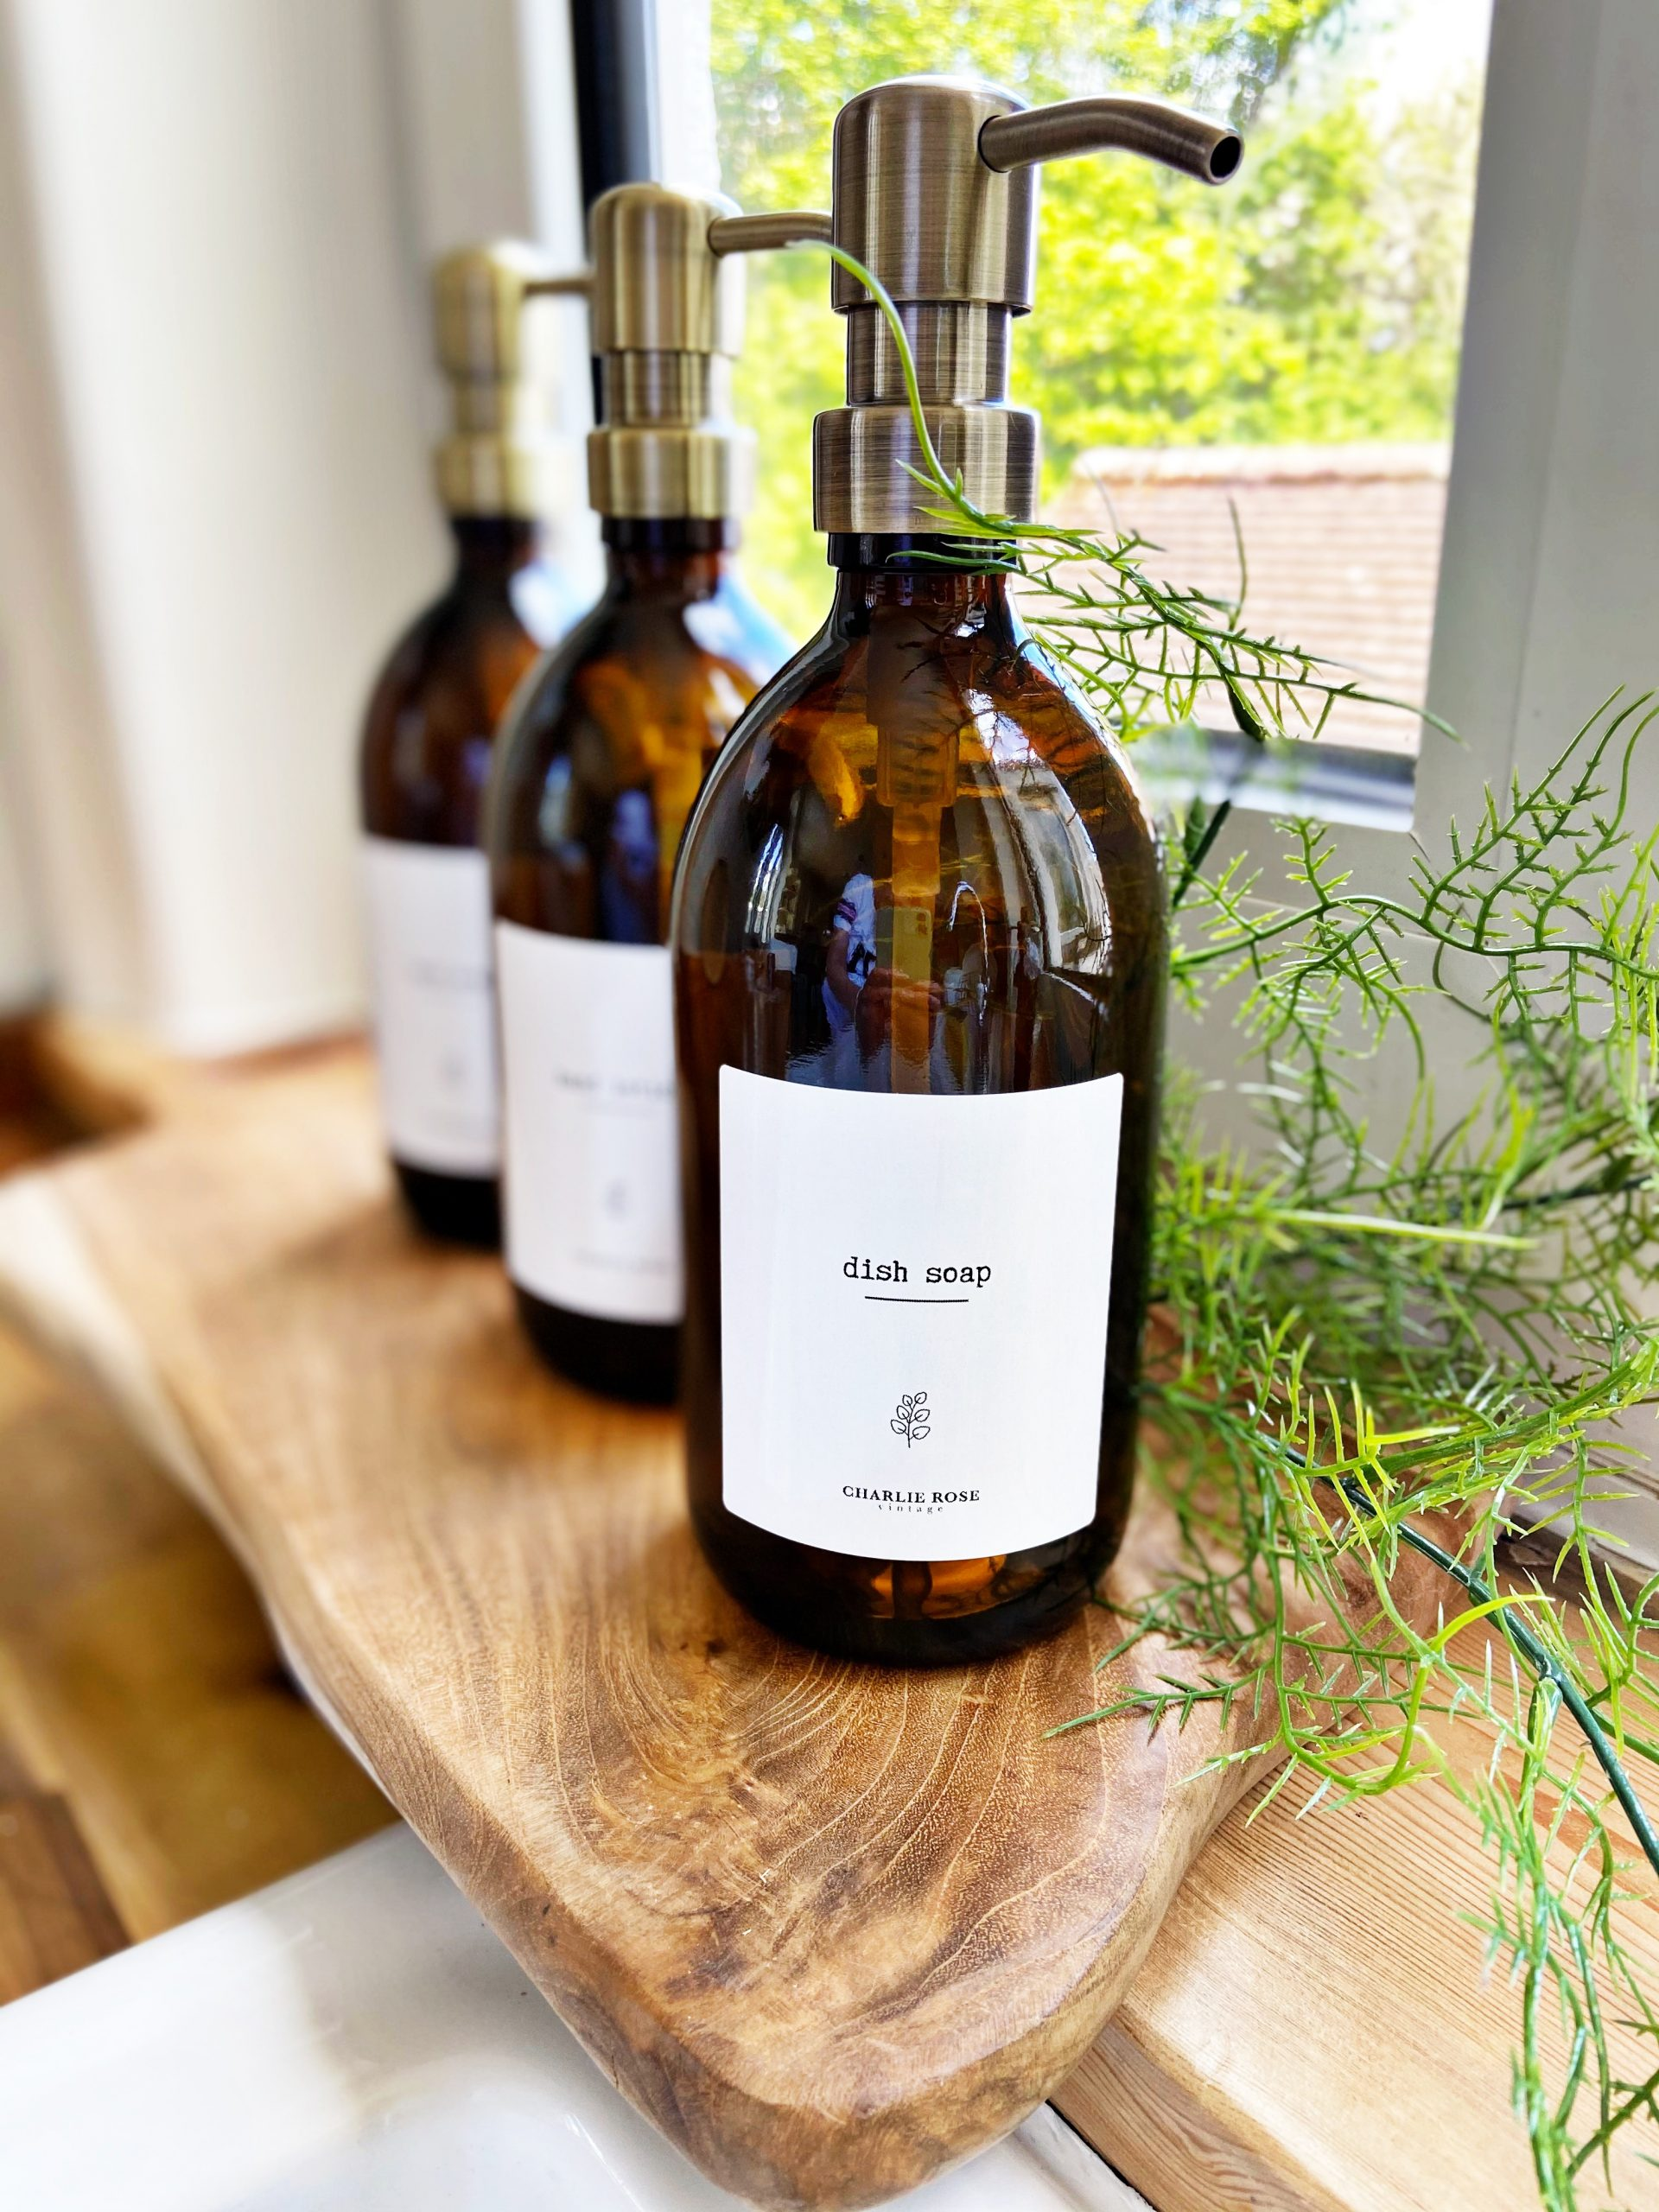glass_bottle: (321, 63, 1251, 1700)
